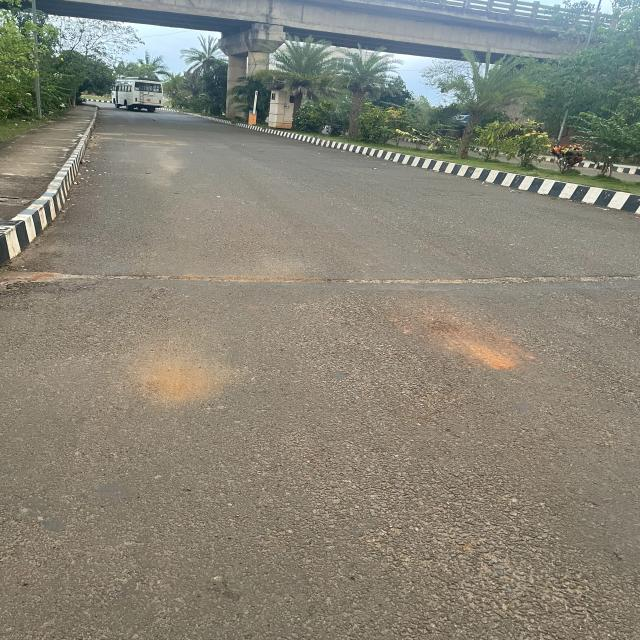D11: (21, 256, 640, 303)
D43: (242, 333, 509, 438)
